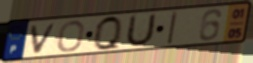6: (197, 8, 223, 43)
I: (165, 10, 179, 47)
O: (56, 19, 86, 54)
Q: (93, 14, 123, 52)
U: (123, 12, 158, 49)
V: (30, 21, 60, 55)
